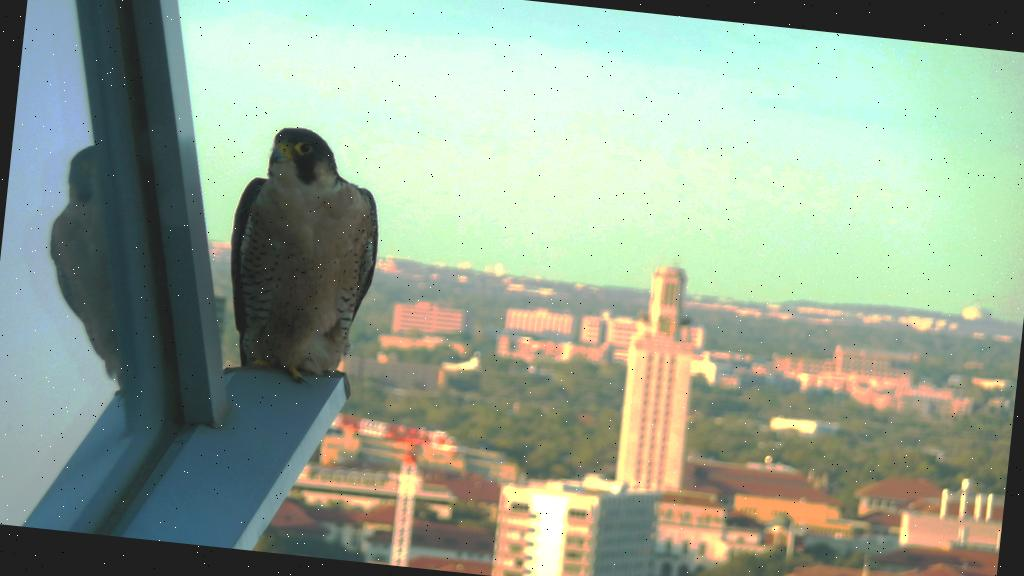Owl: (223, 117, 396, 386)
